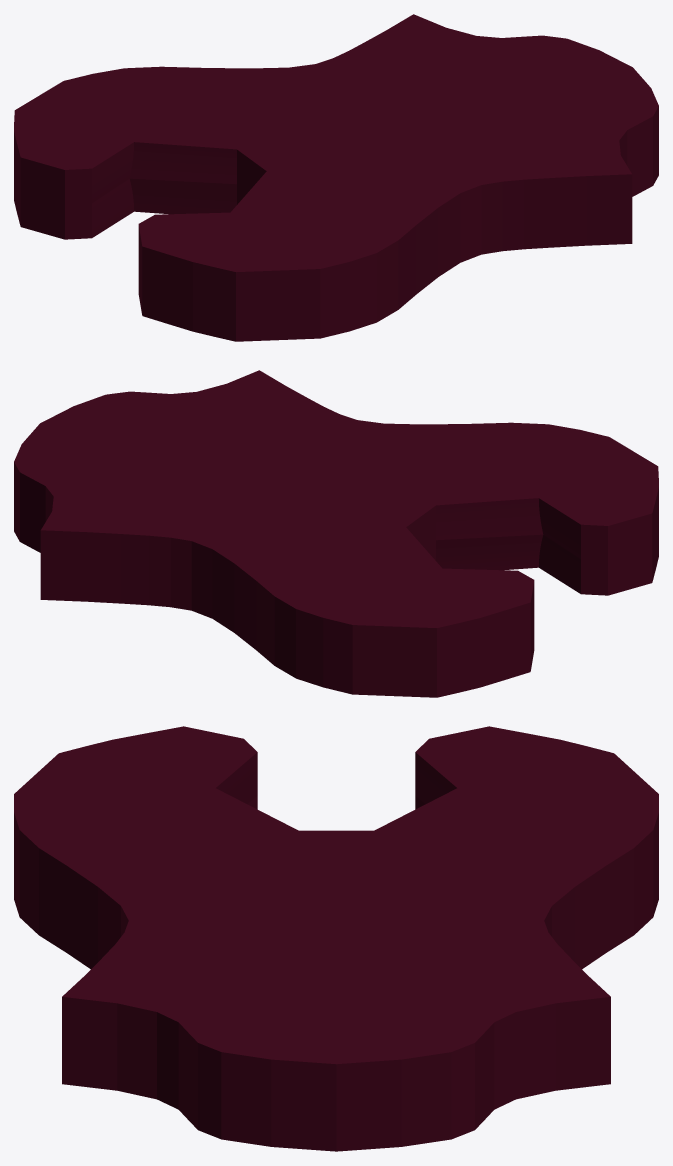
The model's file is symbol1.fbx.
3 views of the same model, one above another, from view 1: azimuth 30°, elevation 25°; view 2: azimuth 150°, elevation 25°; view 3: azimuth 270°, elevation 25° (orthographic). The views are drawn at different scales.
Parts seen in each view (by area): view 1: Cube; view 2: Cube; view 3: Cube.
Boxes of the visible parts, bbox=[...] form: Cube: bbox=[14, 14, 658, 341]; Cube: bbox=[14, 370, 658, 697]; Cube: bbox=[14, 726, 658, 1151].
Size of the model in its own units: 531 by 64.08 by 429.
